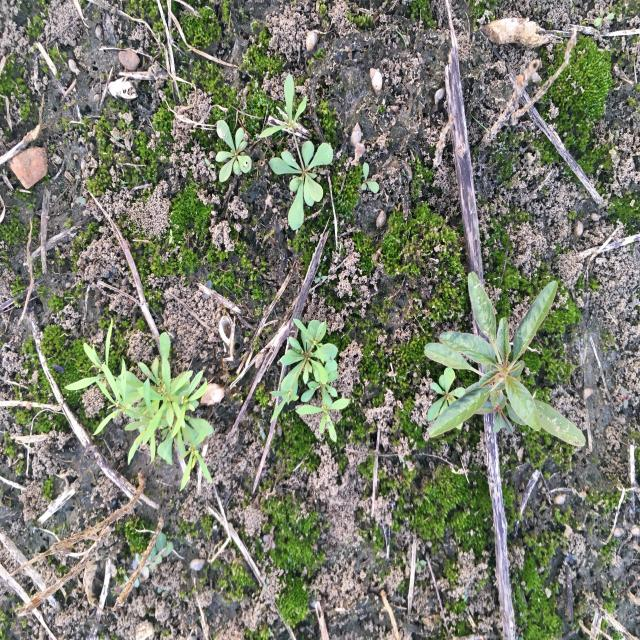Carpetweed: (63, 314, 216, 492), (257, 72, 334, 233), (268, 316, 352, 443), (214, 119, 253, 183)
SpottedSpurge: (126, 529, 176, 591)
Waterhemp: (423, 270, 587, 450)
